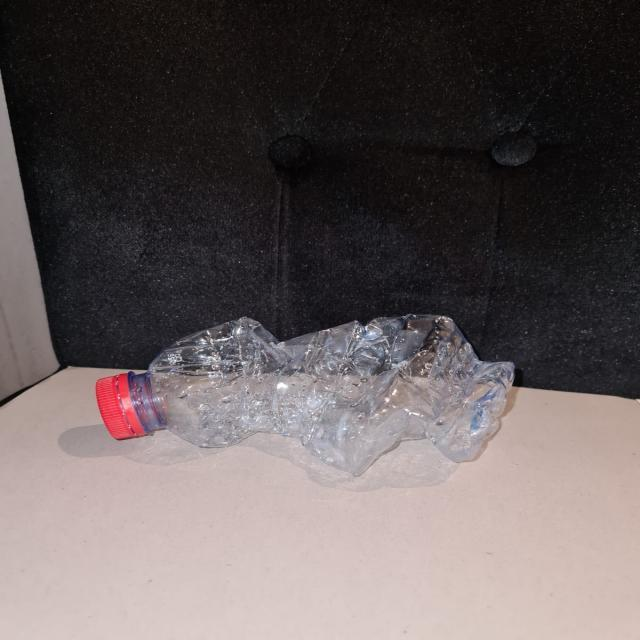chai: (98, 316, 514, 475)
